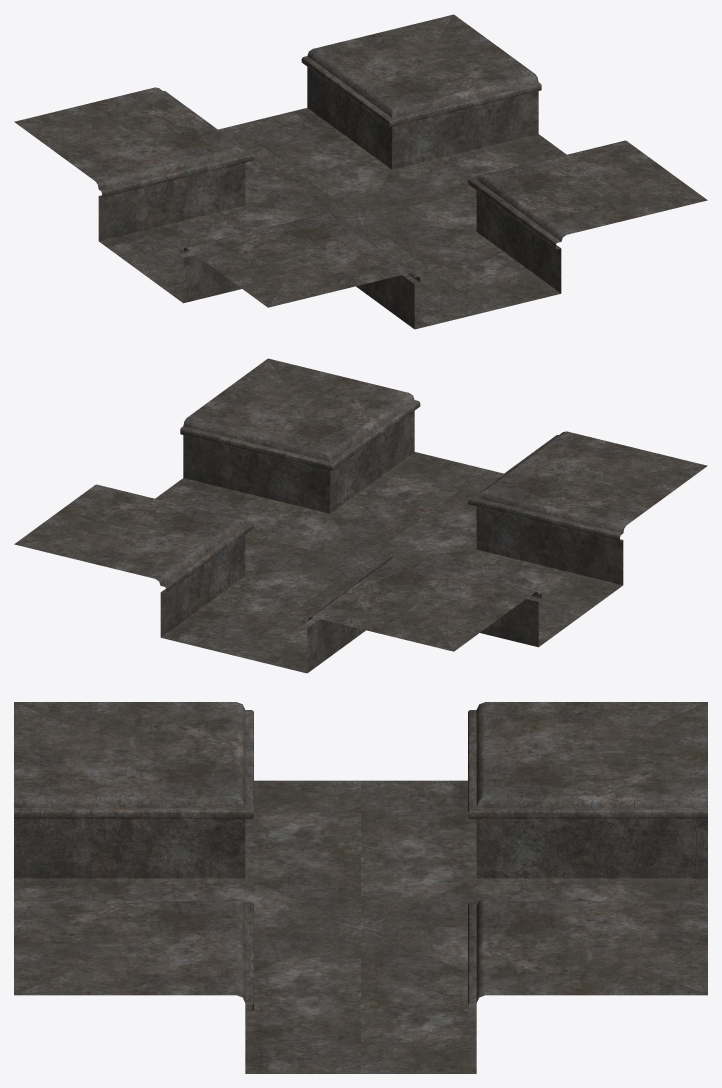
Rendered from Basement_Corridor_A_Floor_Vent_Junction.glb.
3 renders of one model, top to bottom at view 1: azimuth 30°, elevation 25°; view 2: azimuth 150°, elevation 25°; view 3: azimuth 270°, elevation 25°, orthographic. The views are drawn at different scales.
Parts seen in each view (by area): view 1: Basement_Corridor_A_Floor_Vent_Junction; view 2: Basement_Corridor_A_Floor_Vent_Junction; view 3: Basement_Corridor_A_Floor_Vent_Junction.
Boxes of the visible parts, x1,y1,x2,y2 form: Basement_Corridor_A_Floor_Vent_Junction: (14,14,707,329); Basement_Corridor_A_Floor_Vent_Junction: (14,358,707,673); Basement_Corridor_A_Floor_Vent_Junction: (14,702,707,1073).
Bounding box in the file's own units: 4 × 0.5 × 4.
Materials: 1 (1 with a texture image).
